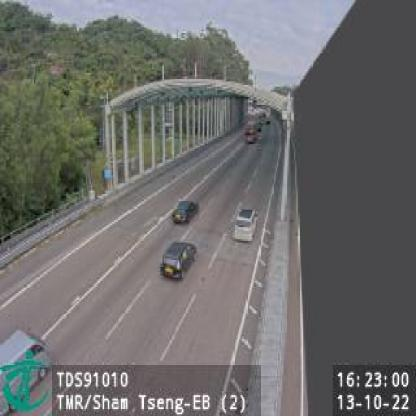Car: (0, 325, 52, 416), (160, 240, 197, 280), (232, 204, 258, 242), (171, 198, 198, 223)
